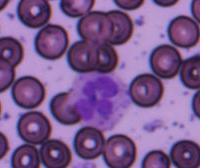N: (69, 70, 131, 130)
